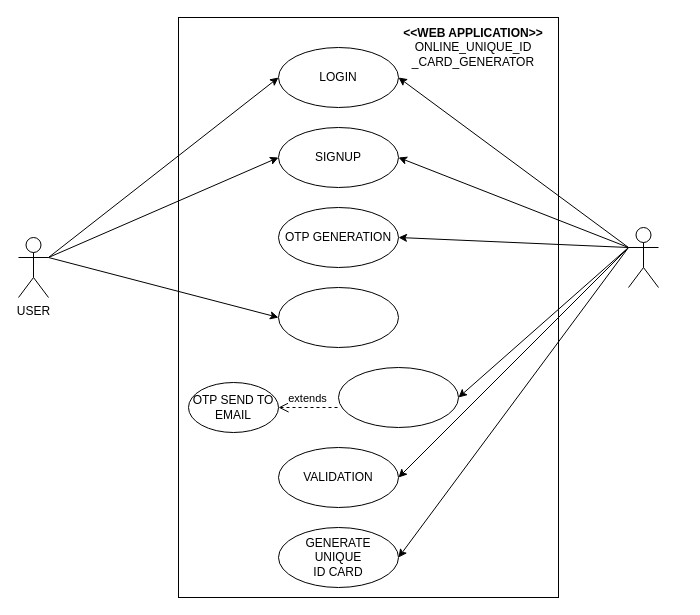
This 700x615 diagram has some shape labels left out. Here are the shapes that lost their labels. From the top down, the centre of each, then its label:
At (643,257): "APPLICATION".
At (338,317): "UPLOAD DETAILS AND PHOTO".
At (398,397): "PASSWORD GENERATION".
